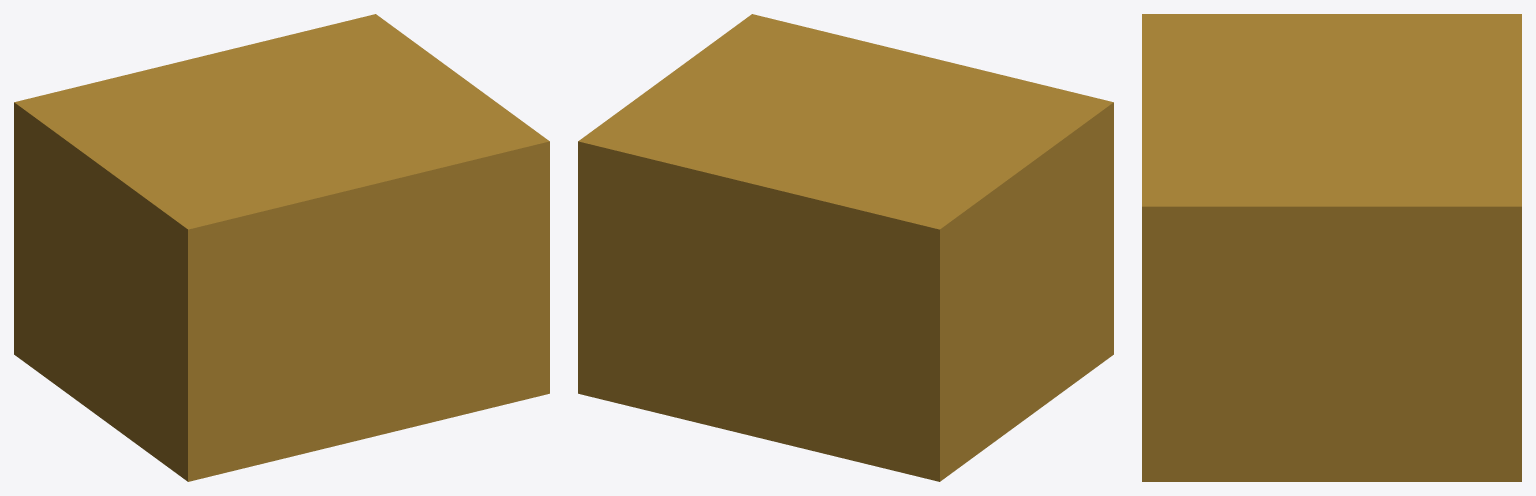
The model's file is techo.obj.
The picture shows the model from 3 angles, left to right: view 1: azimuth 30°, elevation 25°; view 2: azimuth 150°, elevation 25°; view 3: azimuth 270°, elevation 25°; orthographic projection. The views are drawn at different scales.
Visible parts, largest first — view 1: Wall.015; view 2: Wall.015; view 3: Wall.015.
Boxes of the visible parts, left/top/right/bottom form: Wall.015: left=14, top=14, right=549, bottom=481; Wall.015: left=578, top=14, right=1113, bottom=481; Wall.015: left=1142, top=14, right=1521, bottom=481.
Size of the model in its own units: 6 by 4 by 5.
6 materials, 6 textured.
